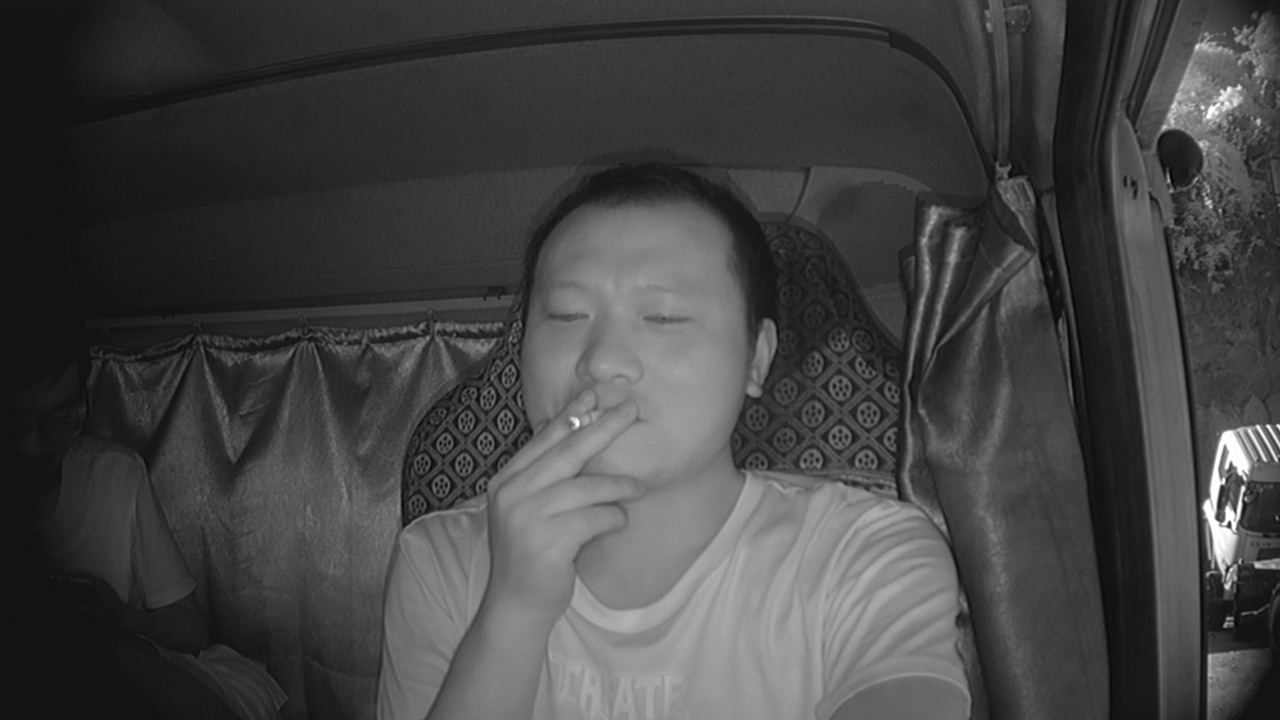hand: (489, 386, 656, 577)
